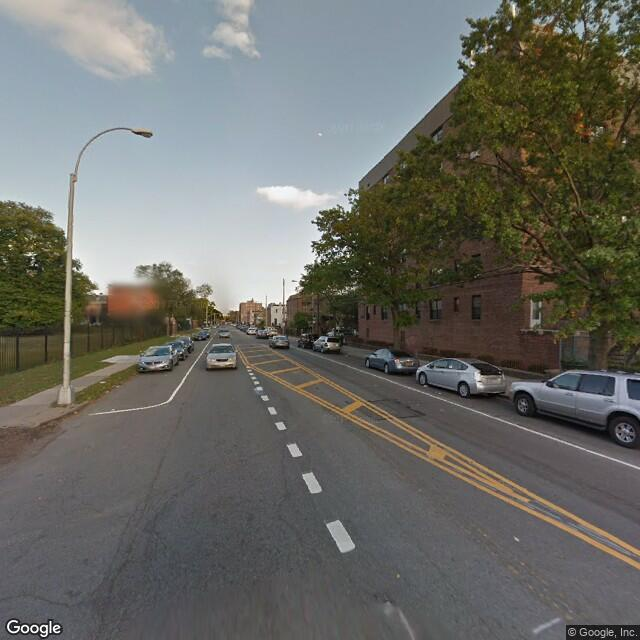litter: (512, 535, 520, 546), (423, 383, 428, 390), (101, 379, 105, 385)
